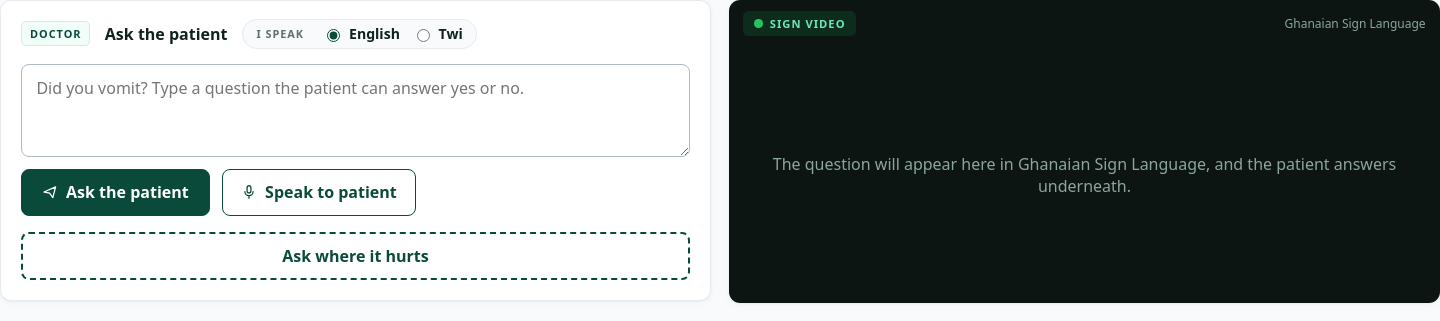
Test: broadcasting a question › sends nothing before the gate has let the sentence through
Type "hi" into the text box named "message for the patient" at (356, 110), box [21,64,690,157]
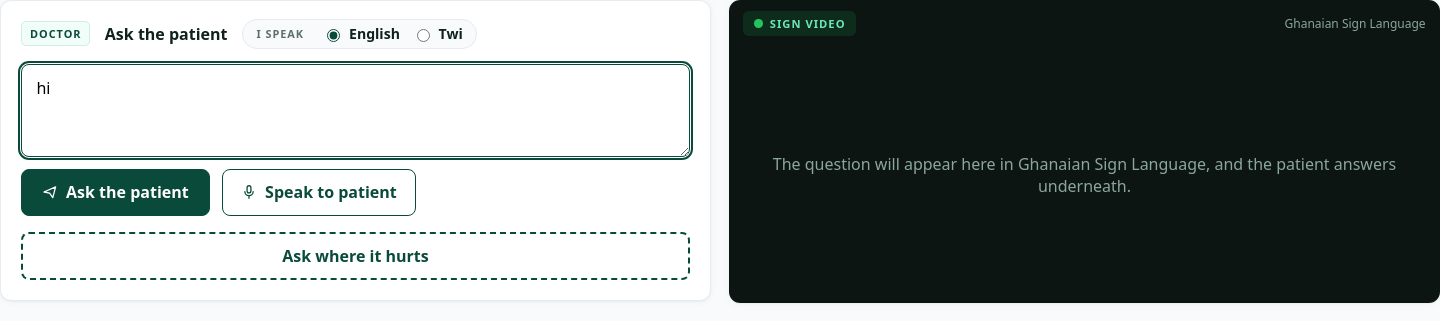
Click the button "Ask the patient" at (115, 192), box [21,169,210,216]
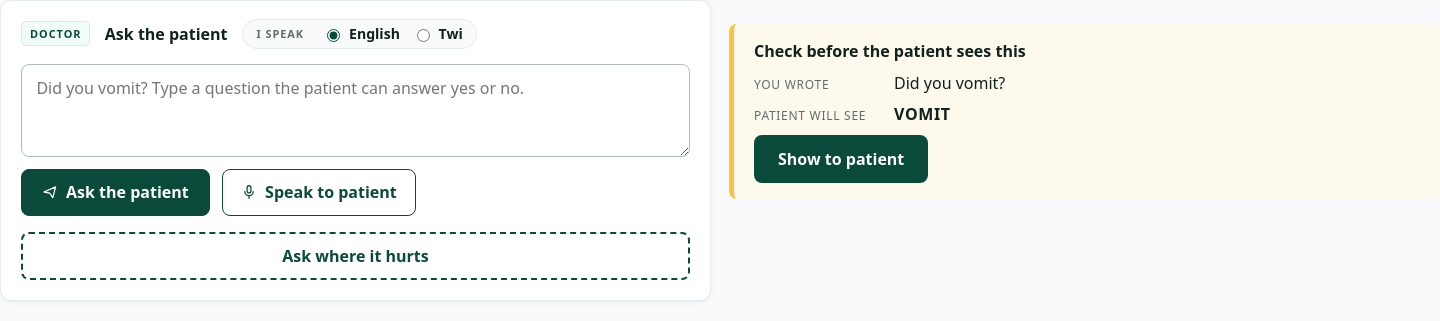
Now the element with test id "utterance-confirm" is shown, box [729,24,1439,199]
